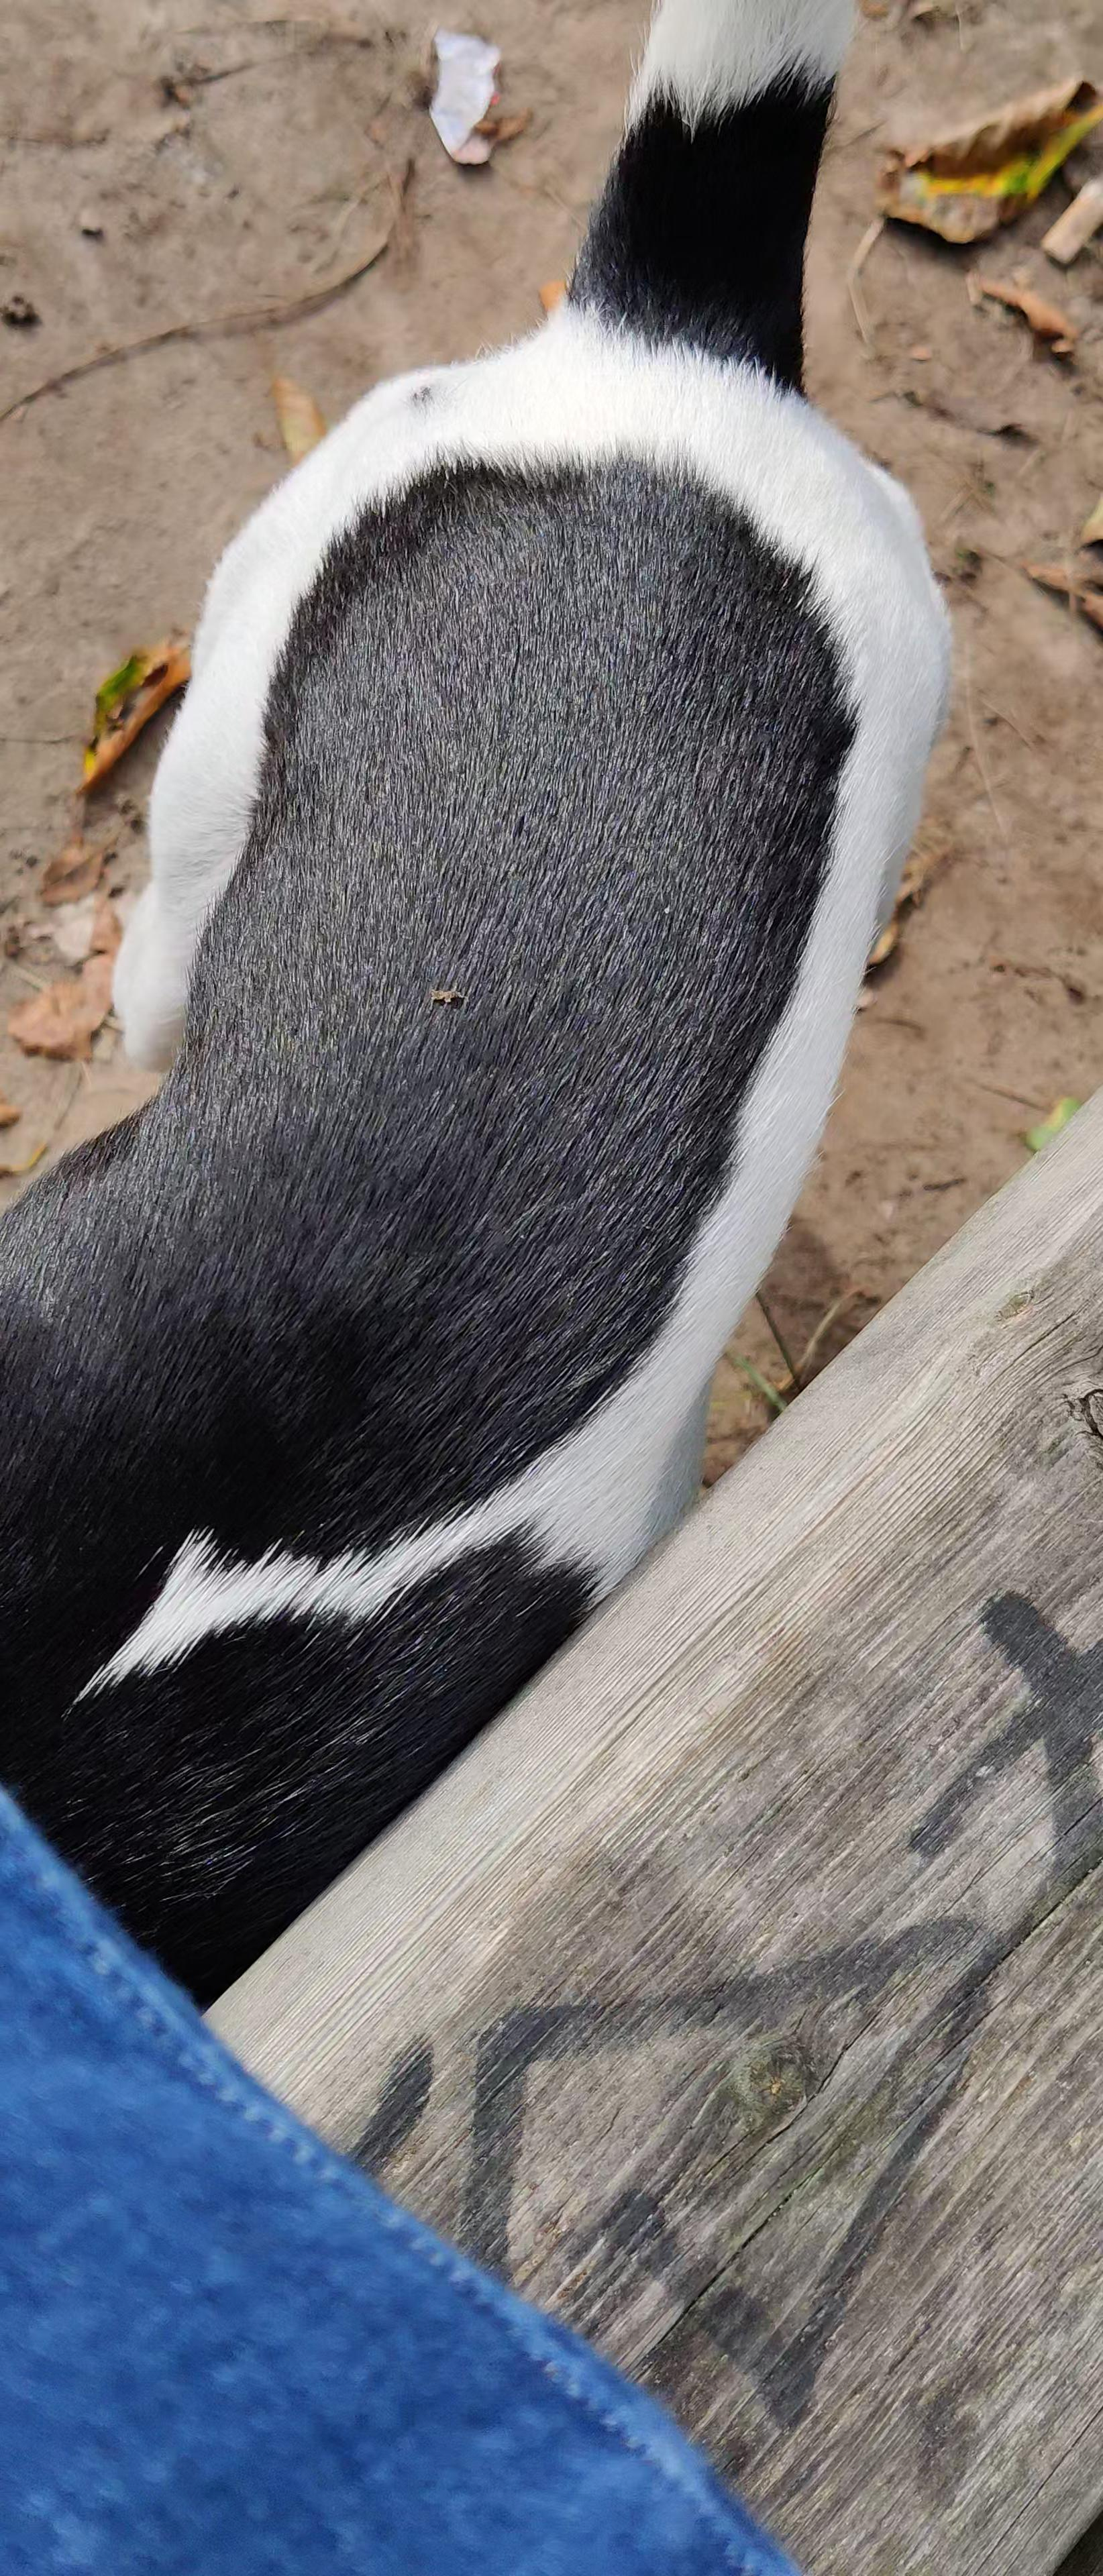Dog: (0, 0, 971, 2009)
